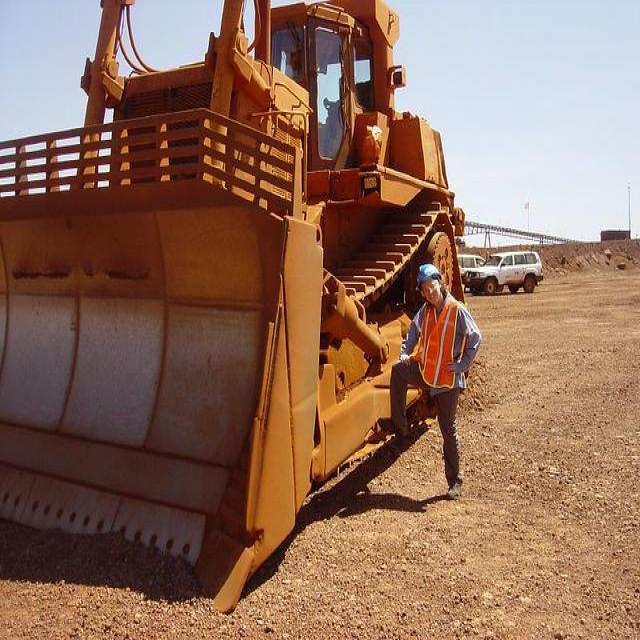Bulldozer: (10, 0, 487, 597)
